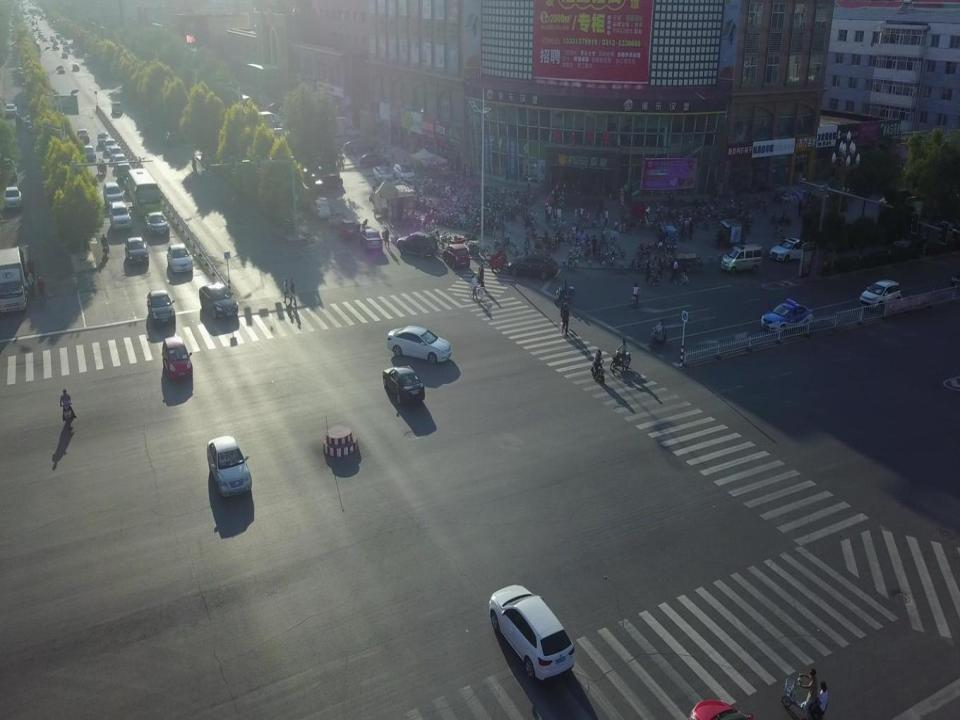bus: (128, 168, 161, 216), (116, 162, 130, 184)
car: (488, 588, 575, 682), (207, 436, 252, 497), (387, 325, 452, 364), (762, 296, 814, 332), (382, 364, 425, 407), (689, 698, 760, 720), (859, 279, 903, 314), (199, 281, 238, 320), (506, 254, 558, 282), (162, 336, 192, 381), (396, 232, 437, 260), (146, 290, 177, 326), (768, 238, 807, 264), (167, 244, 192, 276), (107, 200, 133, 230), (442, 244, 471, 269), (125, 236, 148, 266), (145, 211, 169, 238), (103, 181, 124, 209), (311, 174, 343, 191), (0, 156, 18, 186), (5, 187, 24, 214), (394, 162, 416, 185), (359, 152, 391, 167), (362, 227, 382, 250), (342, 140, 374, 154), (339, 218, 357, 241), (310, 199, 330, 219), (372, 164, 391, 184), (81, 145, 97, 163), (114, 152, 128, 170), (98, 131, 110, 149), (103, 138, 117, 152), (110, 100, 122, 116), (110, 146, 122, 161), (76, 129, 89, 142), (5, 102, 16, 115), (71, 62, 80, 72), (63, 46, 70, 54), (58, 66, 65, 73), (60, 52, 68, 56)
truck: (0, 245, 26, 313), (246, 110, 279, 132), (326, 116, 360, 137), (83, 52, 91, 63)
van: (720, 245, 762, 274)
